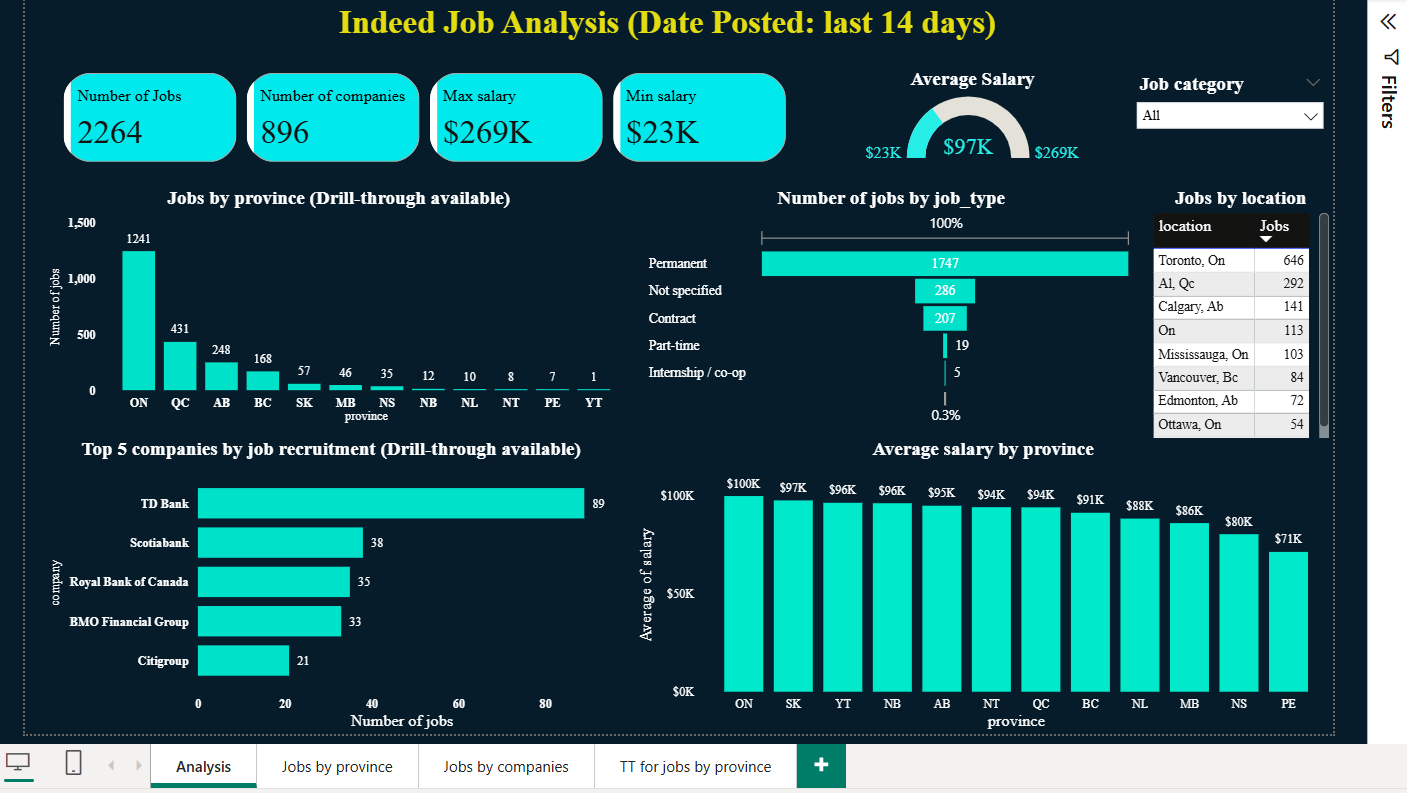

The dashboard page shown, as its layout file describes it:
{"tool":"powerbi","page":{"name":"Analysis","canvas":[1280,720],"ordinal":0},"visuals":[{"type":"cardVisual","fields":{"Data":["Count(Sheet1.job_url)","Count(Sheet1.company)","Max(Sheet1.salary)","Min(Sheet1.salary)1"]},"box":[33,68.5,717.8,97.8],"z":0},{"type":"columnChart","title":"Jobs by province (Drill-through available)","fields":{"Y":["CountNonNull(Sheet1.job_url)"],"Category":["Sheet1.province"]},"box":[19.6,184.6,574.7,236],"z":1000},{"type":"barChart","title":"Top 5 companies by job recruitment (Drill-through available)","fields":{"Category":["Sheet1.company"],"Y":["CountNonNull(Sheet1.job_url)"]},"box":[19.6,430.4,560.1,289.8],"z":2000},{"type":"tableEx","title":"Jobs by location","fields":{"Values":["Sheet1.location","Sheet1.job_url"]},"box":[1098.1,184.6,182.2,267.8],"z":3000},{"type":"clusteredColumnChart","title":"Average salary by province","fields":{"Category":["Sheet1.province"],"Y":["Avg(Sheet1.salary)"]},"box":[594.3,430.4,686,289.8],"z":4000},{"type":"slicer","fields":{"Values":["Sheet1.job_role_category"]},"box":[1077.3,68.5,203,97.8],"z":5000},{"type":"funnel","title":"Number of jobs by job_type","fields":{"Category":["Sheet1.job_type"],"Y":["CountNonNull(Sheet1.job_url)"]},"box":[605.3,184.6,484.2,237.2],"z":6000},{"type":"textbox","box":[259.2,0,738.6,57.5],"z":7000},{"type":"gauge","title":"Average Salary","fields":{"Y":["Avg(Sheet1.salary)"],"MinValue":["Min(Sheet1.salary)1"],"MaxValue":["Max(Sheet1.salary)2"]},"box":[797.3,68.5,259.2,97.8],"z":8000}]}

Visuals, with their boxes on the page's 1280x720 design canvas (x1, y1, x2, y2). These are canvas units, not pixel positions in the 1407x793 screenshot, which may show the page scaled, cropped or inside an application window:
cardVisual - Count(Sheet1.job_url) x Count(Sheet1.company): [left=33, top=68, right=751, bottom=166]
"Jobs by province (Drill-through available)" columnChart: [left=20, top=185, right=594, bottom=421]
"Top 5 companies by job recruitment (Drill-through available)" barChart: [left=20, top=430, right=580, bottom=720]
"Jobs by location" tableEx: [left=1098, top=185, right=1280, bottom=452]
"Average salary by province" clusteredColumnChart: [left=594, top=430, right=1280, bottom=720]
slicer - Sheet1.job_role_category: [left=1077, top=68, right=1280, bottom=166]
"Number of jobs by job_type" funnel: [left=605, top=185, right=1090, bottom=422]
textbox: [left=259, top=0, right=998, bottom=58]
"Average Salary" gauge: [left=797, top=68, right=1056, bottom=166]
